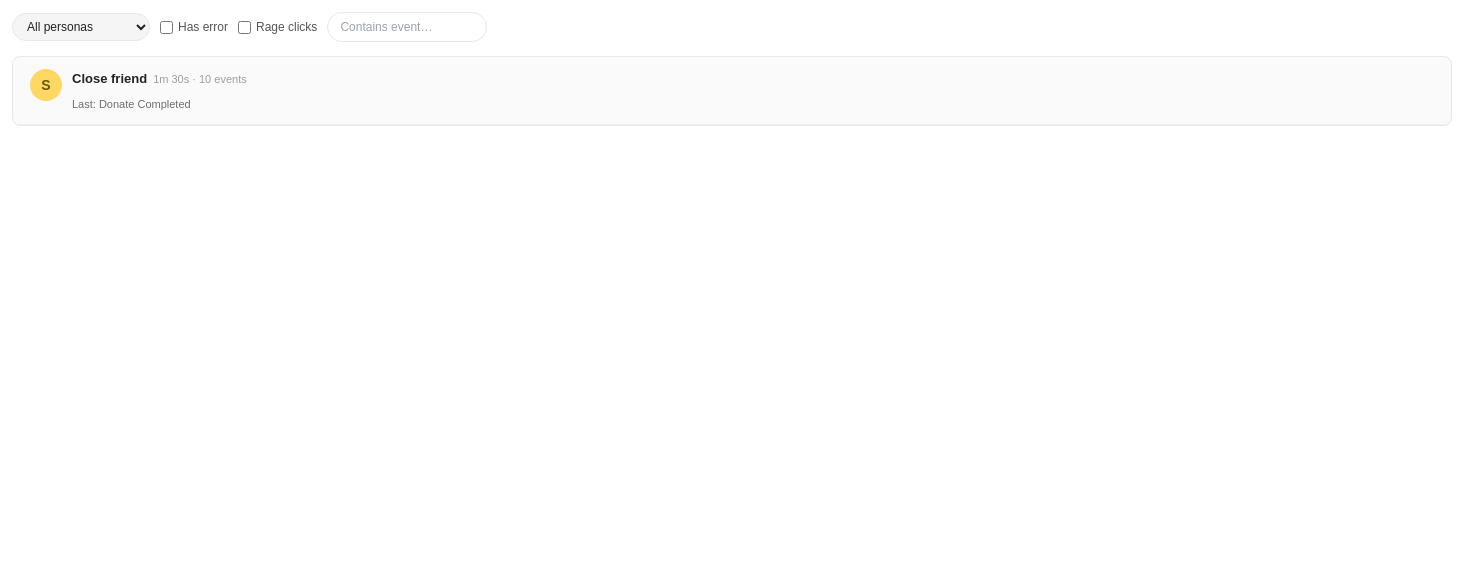
Test case: ReplaySurface — CB-40 click and filter fixes › clicking the session row renders the ReplayPlayer
The image size is (1464, 575).
# The single seeded session row is the close_friend session
Click the option with aria-label "sess-001" at coordinates (46, 85), box x1=13 y1=57 x2=1451 y2=125
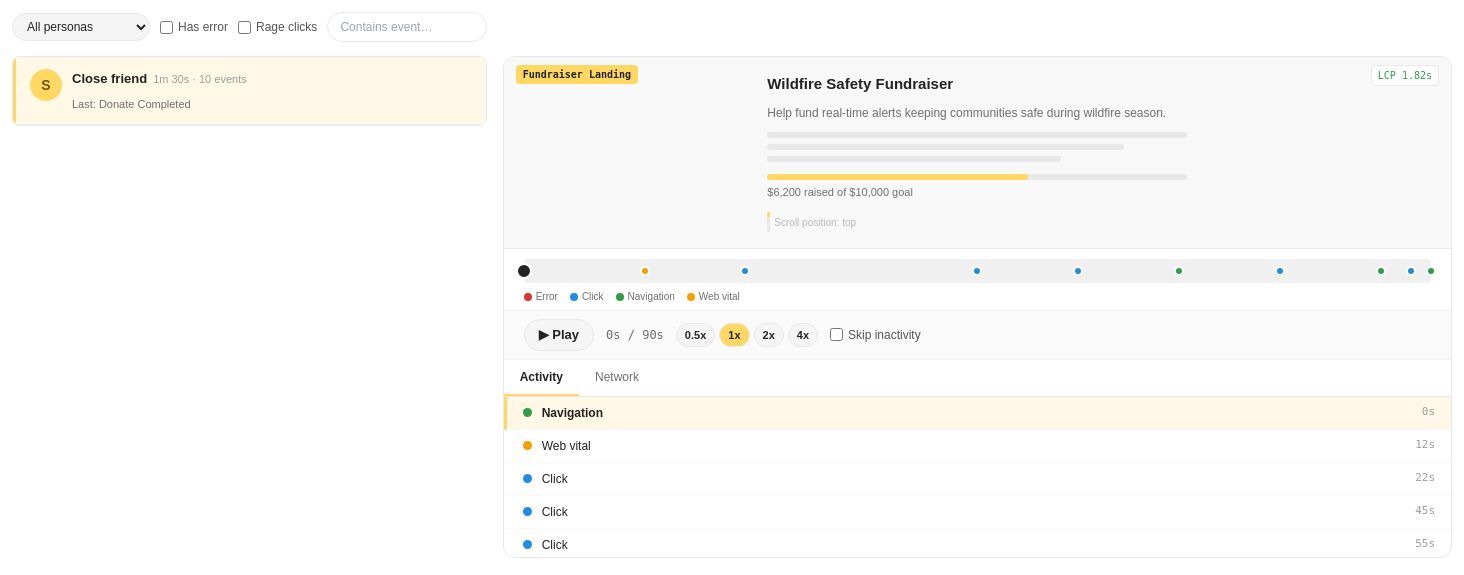
Now the element named "Session replay player" is shown, box x1=503 y1=56 x2=1452 y2=558
